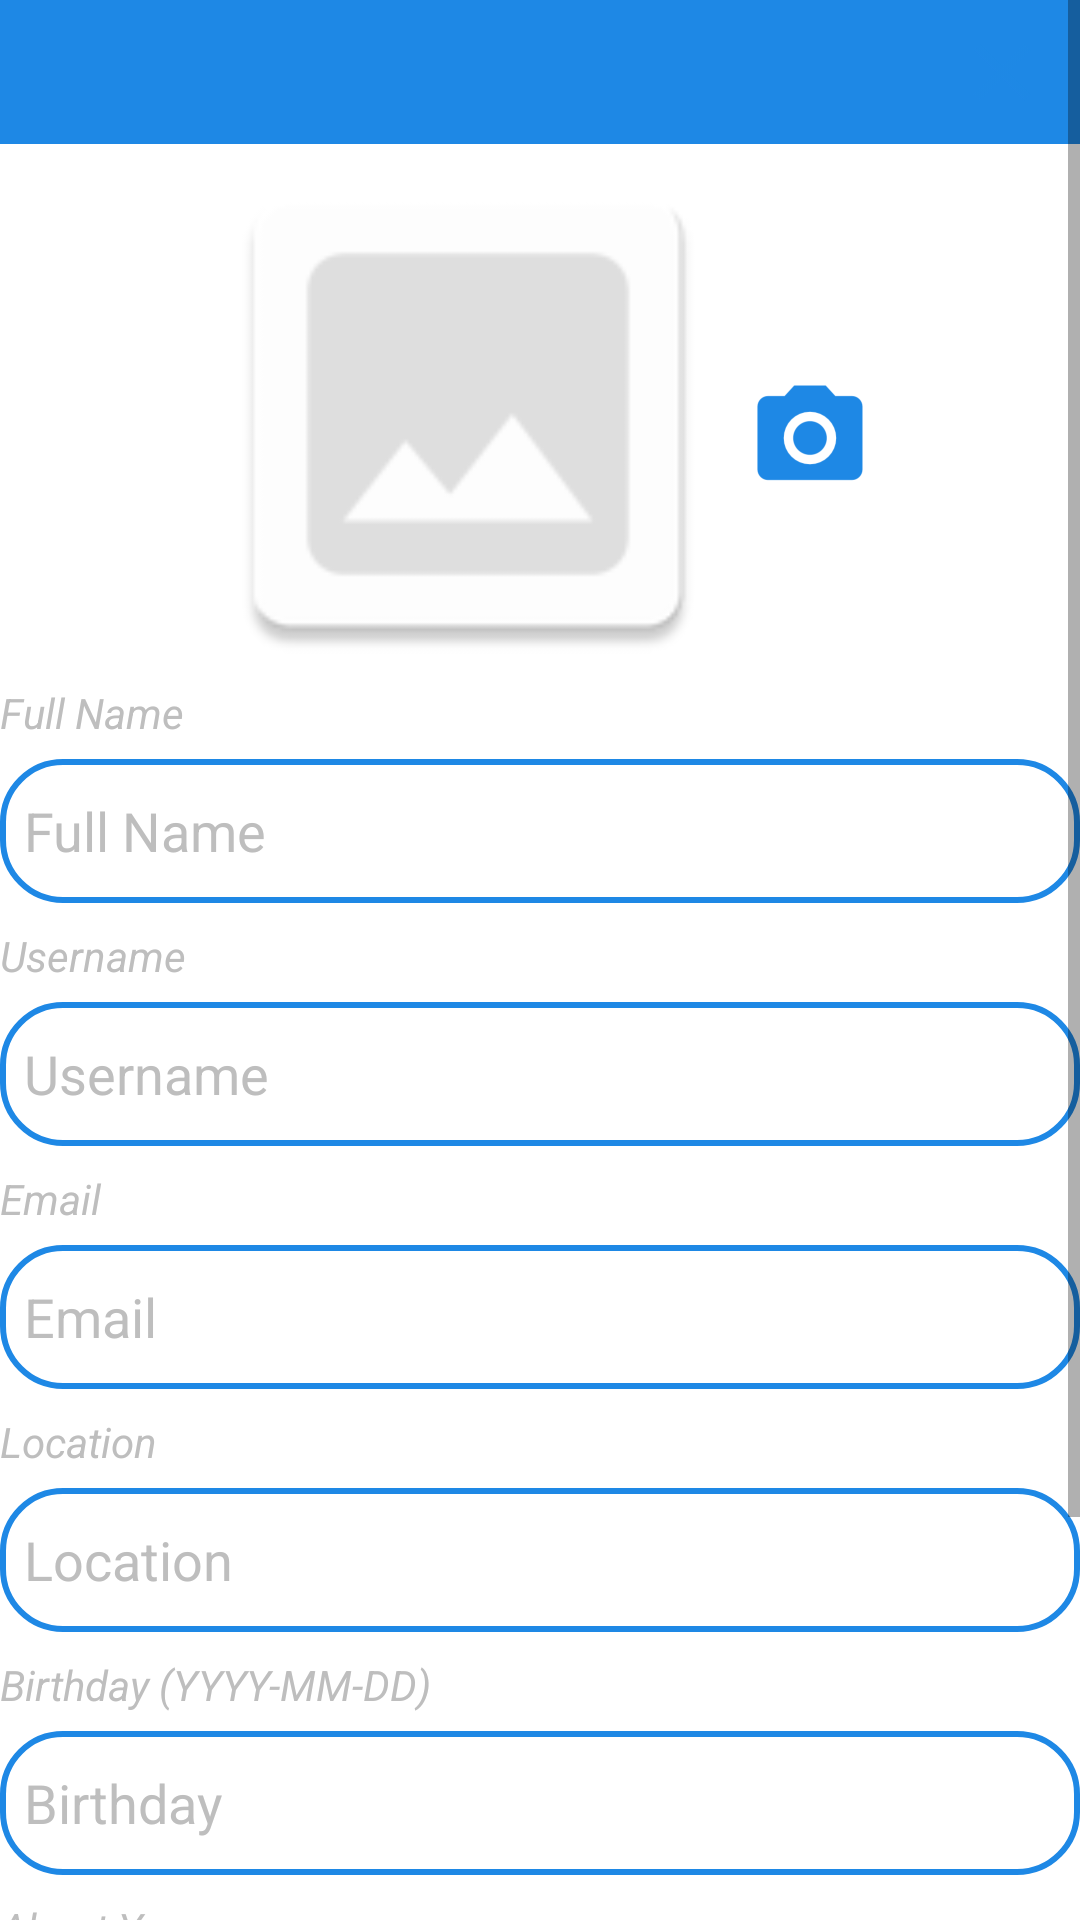

Point at icon controls on the screen. Image size 1080*1920, points as point (x, y).
camera: point (810, 433)
